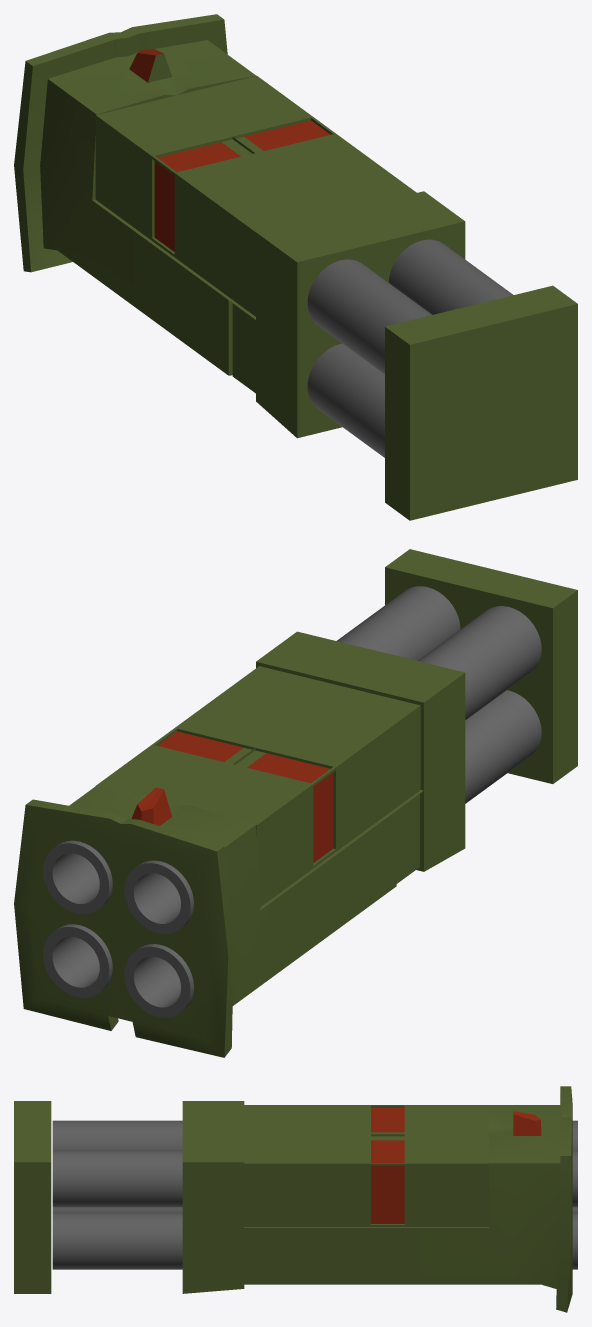
Rendered from lanza misiles.fbx.
The picture shows the model from 3 angles, top to bottom: view 1: azimuth 30°, elevation 25°; view 2: azimuth 150°, elevation 25°; view 3: azimuth 270°, elevation 25°; orthographic projection. The views are drawn at different scales.
Visible parts, largest first — view 1: Cubo_2, Cubo, Tubo, Tubo_1; view 2: Cubo_2, Tubo, Cubo, Tubo_1; view 3: Cubo_2, Tubo, Tubo_1, Cubo.
Part boxes in pixels (x1=…): Cubo_2: x1=14, y1=14, x2=465, y2=438; Cubo: x1=385, y1=285, x2=577, y2=520; Tubo: x1=307, y1=239, x2=513, y2=374; Tubo_1: x1=307, y1=343, x2=384, y2=457; Cubo_2: x1=14, y1=631, x2=465, y2=1057; Tubo: x1=43, y1=586, x2=541, y2=933; Cubo: x1=385, y1=549, x2=577, y2=783; Tubo_1: x1=43, y1=690, x2=541, y2=1017; Cubo_2: x1=182, y1=1086, x2=572, y2=1312; Tubo: x1=52, y1=1120, x2=577, y2=1207; Tubo_1: x1=52, y1=1207, x2=577, y2=1269; Cubo: x1=14, y1=1101, x2=51, y2=1293.
Size of the model in its own units: 255 by 249 by 777.
